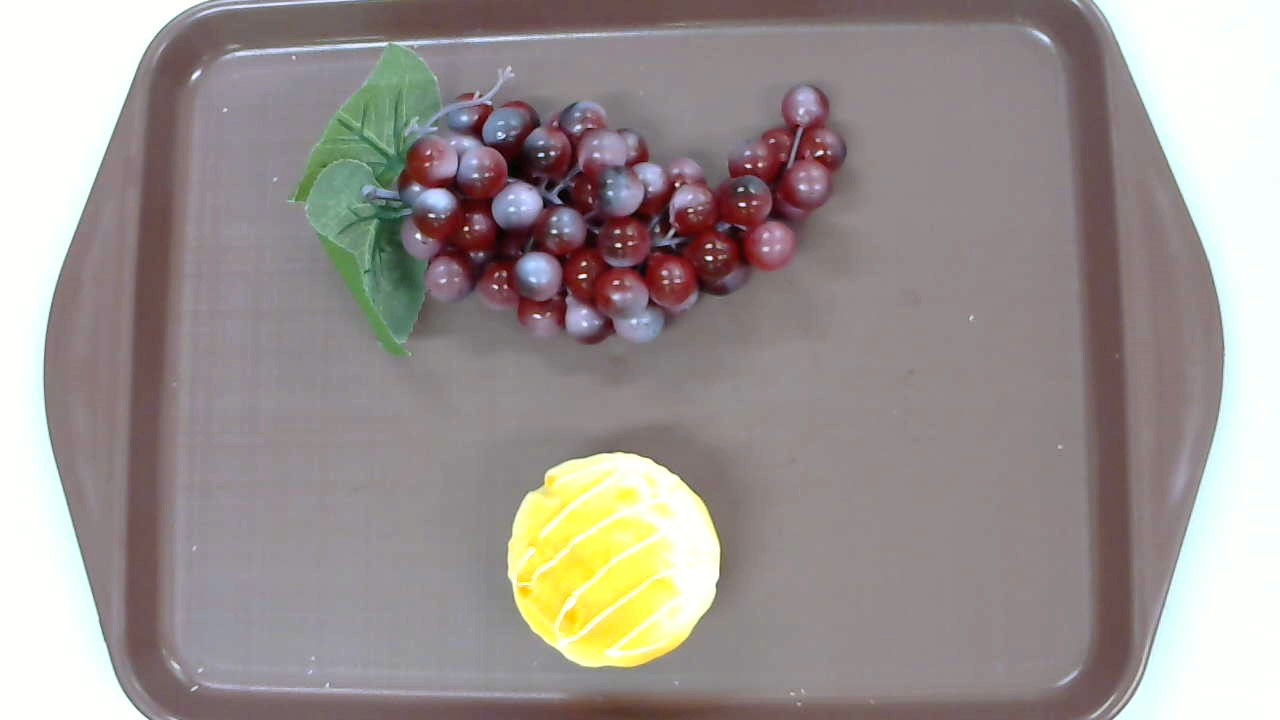cupcake: (508, 453, 720, 668)
grape: (288, 42, 850, 366)
